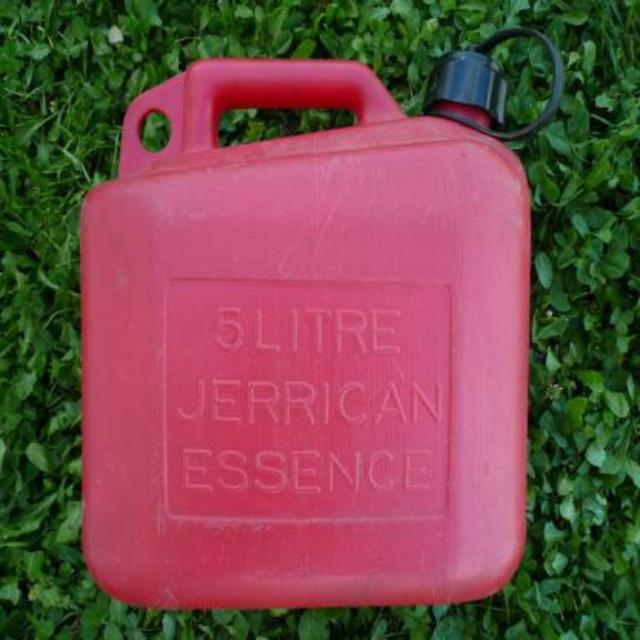chemical_plastic_gallon: (78, 33, 538, 613)
